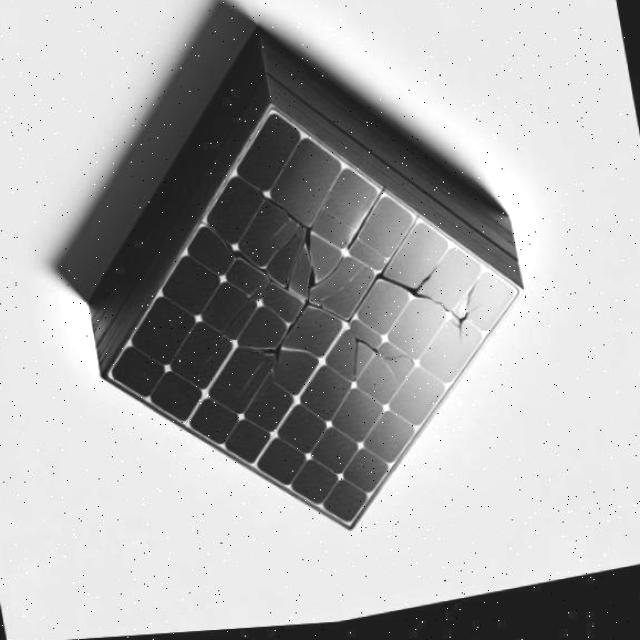Anomaly Solar Panel: (107, 115, 536, 543)
Structural Damage: (385, 239, 510, 363), (263, 180, 358, 313), (202, 279, 274, 376), (234, 317, 306, 409), (200, 224, 278, 291), (352, 329, 419, 398), (323, 272, 373, 313)
